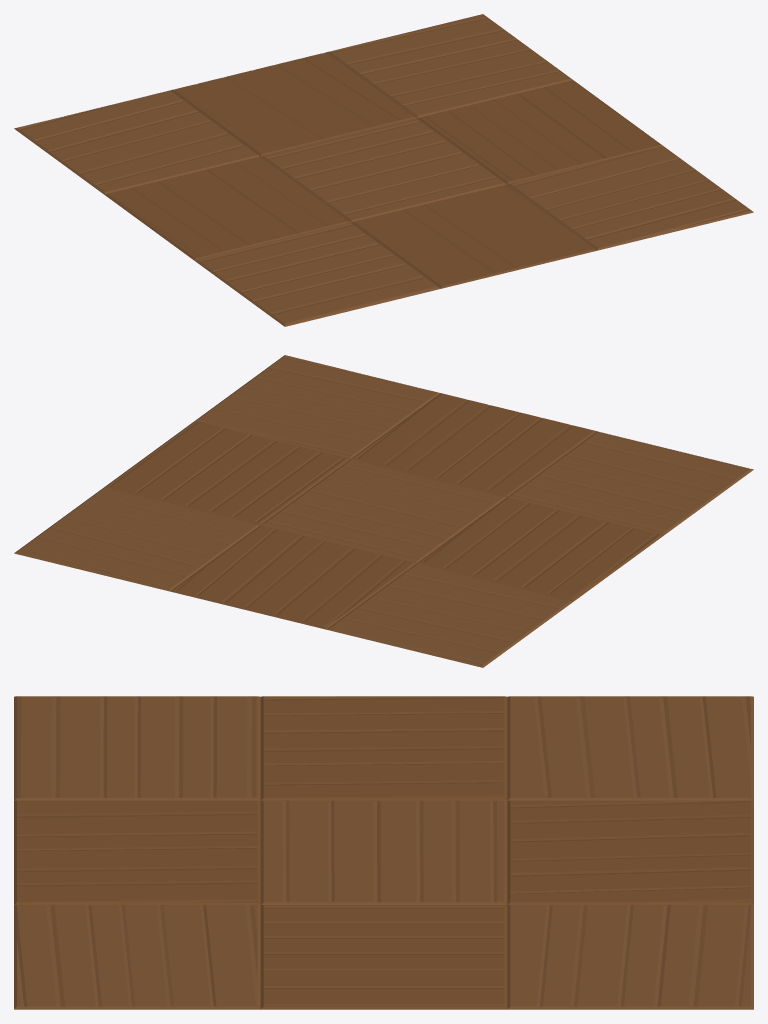
The model's file is Wood_Floor_Module_01_03.glb.
3 views of the same model, one above another, from view 1: azimuth 30°, elevation 25°; view 2: azimuth 150°, elevation 25°; view 3: azimuth 270°, elevation 25° (orthographic). The views are drawn at different scales.
Parts seen in each view (by area): view 1: Wood_Floor_Module_01_03; view 2: Wood_Floor_Module_01_03; view 3: Wood_Floor_Module_01_03.
Boxes of the visible parts, box(x1,y1,x2,y2) form: Wood_Floor_Module_01_03: box(14, 14, 753, 326); Wood_Floor_Module_01_03: box(14, 355, 753, 667); Wood_Floor_Module_01_03: box(14, 696, 753, 1009).
Size of the model in its own units: 4.74 by 0.012 by 4.74.
